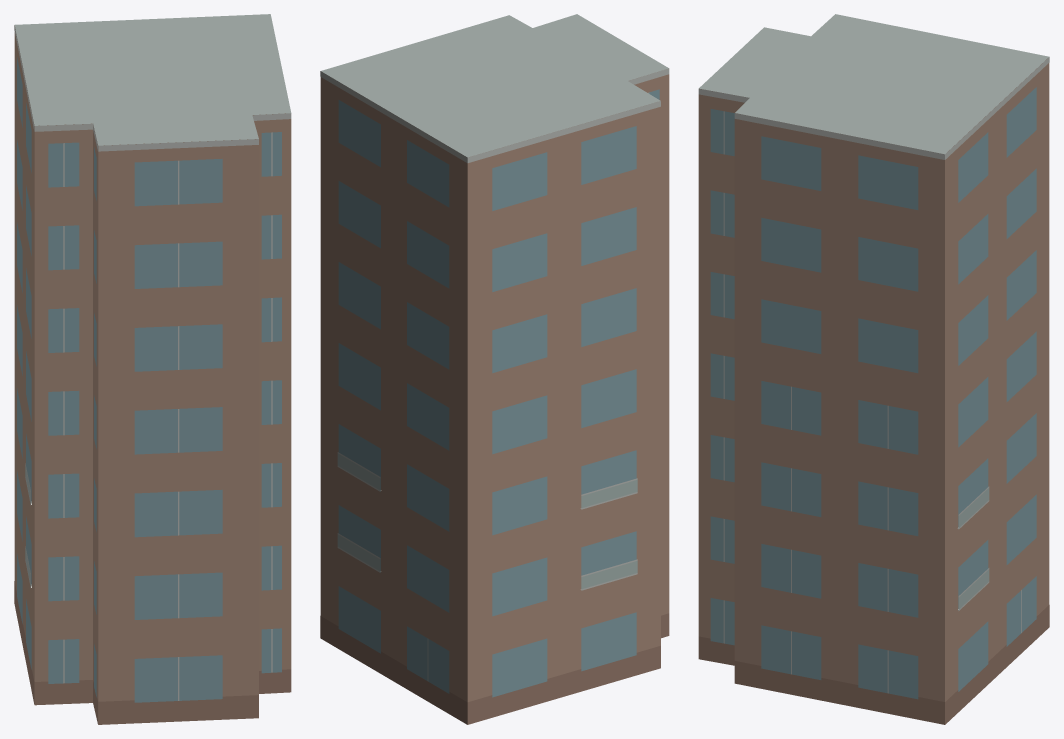
The model's file is survey-upis-32670342.glb.
The picture shows the model from 3 angles, left to right: view 1: azimuth 30°, elevation 25°; view 2: azimuth 150°, elevation 25°; view 3: azimuth 270°, elevation 25°; orthographic projection. The views are drawn at different scales.
Parts seen in each view (by area): view 1: survey-upis-32670342.tmp; view 2: survey-upis-32670342.tmp; view 3: survey-upis-32670342.tmp.
Part boxes in pixels (bbox=[...]): survey-upis-32670342.tmp: bbox=[14, 14, 291, 724]; survey-upis-32670342.tmp: bbox=[320, 14, 669, 724]; survey-upis-32670342.tmp: bbox=[698, 14, 1049, 724].
Bounding box in the file's own units: 12.61 × 23.9 × 13.33.
